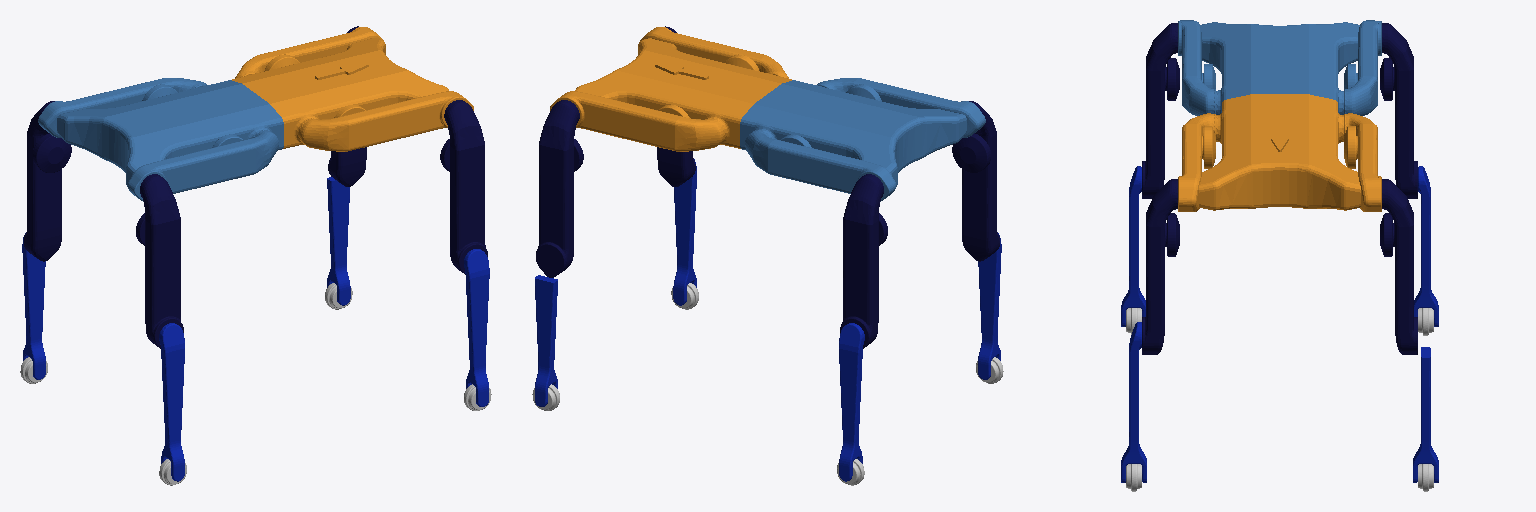
URDF robot description (solo):
<?xml version="1.0" ?>
<!-- =================================================================================== -->
<!-- |    This document was autogenerated by xacro from /usr/local/lib/python3.9/site-packages/robot_properties_solo/resources/xacro/solo8.urdf.xacro | -->
<!-- |    EDITING THIS FILE BY HAND IS NOT RECOMMENDED                                 | -->
<!-- =================================================================================== -->
<robot name="solo" xmlns:controller="http://playerstage.sourceforge.net/gazebo/xmlschema/#controller" xmlns:interface="http://playerstage.sourceforge.net/gazebo/xmlschema/#interface" xmlns:sensor="http://playerstage.sourceforge.net/gazebo/xmlschema/#sensor" xmlns:xacro="http://playerstage.sourceforge.net/gazebo/xmlschema/#interface">
  <!-- This file is based on: https://atlas.is.localnet/confluence/display/AMDW/Quadruped+URDF+Files -->
  <link name="torso_front">
    <!-- BASE LINK INERTIAL -->
    <inertial>
      <origin rpy="0 0 0" xyz="0 0 0"/>
      <mass value="0.71657546"/>
      <!-- The base is extremely symmetrical. -->
      <inertia ixx="0.0001" ixy="0.0" ixz="0.0" iyy="50" iyz="0.0" izz="50"/>
    </inertial>
    <!-- BASE LINK VISUAL -->
    <visual>
      <origin rpy="0 0 0" xyz="0 0 0"/>
      <geometry>
        <mesh filename="../meshes/solo_torso_front.dae"/>
      </geometry>
      <material name="ftorso_mat">
        <color rgba="0.9 0.6 0.2 1"/>
      </material>
    </visual>
    <!-- BASE LINK COLLISION -->
    <collision>
      <origin rpy="0 0 0" xyz="0.11 0 0"/>
      <geometry>
        <box size="0.2 0.18 0.06"/>
      </geometry>
    </collision>
    <!-- Bullet specific paramters -->
    <contact>
      <lateral_friction value="1.0"/>
      <restitution value="0.5"/>
    </contact>
  </link>
  <!-- SPIN:Between the torso -->
  <joint name="spine_joint" type="revolute">
    <parent link="torso_front"/>
    <child link="torso_back"/>
    <limit effort="1.154579" lower="-4" upper="4" velocity="25"/>
    <!-- joints rotates around the y-axis -->
    <axis xyz="1 0 0"/>
    <origin rpy="0 0 0" xyz="0 0 0"/>
    <!-- pybullet simulation parameters -->
    <dynamics damping="0.0" friction="0.0"/>
  </joint>
  <link name="torso_back">
    <!-- BASE LINK INERTIAL -->
    <inertial>
      <origin rpy="0 0 0" xyz="0 0 0"/>
      <mass value="0.71657546"/>
      <!-- The base is extremely symmetrical. -->
      <inertia ixx="0.0001" ixy="0.0" ixz="0.0" iyy="50" iyz="0.0" izz="50"/>
    </inertial>
    <!-- BASE LINK VISUAL -->
    <visual>
      <origin rpy="0 0 0" xyz="0 0 0"/>
      <geometry>
        <mesh filename="../meshes/solo_torso_back.dae"/>
      </geometry>
      <material name="btorso_mat">
        <color rgba="0.3 0.5 0.7 1"/>
      </material>
    </visual>
    <!-- BASE LINK COLLISION -->
    <collision>
      <origin rpy="0 0 0" xyz="-0.11 0 0"/>
      <geometry>
        <box size="0.2 0.18 0.06"/>
      </geometry>
    </collision>
    <!-- Bullet specific paramters -->
    <contact>
      <lateral_friction value="1.0"/>
      <restitution value="0.5"/>
    </contact>
  </link>
  <!-- END BASE LINK -->
  <!-- Joint between the base and the ${prefix} upper leg -->
  <joint name="FL_HFE" type="revolute">
    <parent link="torso_front"/>
    <child link="FL_UPPER_LEG"/>
    <limit effort="1.154579" lower="0" upper="1.5707963" velocity="15"/>
    <!-- joints rotates around the y-axis -->
    <axis xyz="0 1 0"/>
    <origin rpy="0 0 0" xyz="0.19 0.1046 0"/>
    <!-- pybullet simulation parameters -->
    <dynamics damping="0.0" friction="0.0"/>
  </joint>
  <link name="FL_UPPER_LEG">
    <!-- Left upper leg inertia -->
    <inertial>
      <origin rpy="0 0 0" xyz="0.00001377 0.01935853 -0.07870700"/>
      <mass value="0.14853845"/>
      <inertia ixx="0.00041107" ixy="0.0" ixz="0.0" iyy="0.00041193" iyz="0.00004671" izz="0.00003024"/>
    </inertial>
    <!-- UPPER LEG LINK VISUAL -->
    <visual>
      <origin rpy="0 0 0" xyz="0 0 0"/>
      <geometry>
        <mesh filename="../meshes/solo_upper_leg_left_side.dae"/>
      </geometry>
      <material name="fthigh_mat">
        <color rgba="0.1 0.1 0.3 1"/>
      </material>
    </visual>
    <!-- UPPER LEG LINK COLLISION -->
    <collision>
      <origin rpy="0 0 0" xyz="0 0 0"/>
      <geometry>
        <mesh filename="../meshes/solo_upper_leg_left_side.dae"/>
      </geometry>
    </collision>
    <!-- Bullet specific paramters -->
    <contact>
      <lateral_friction value="1.0"/>
      <restitution value="0.5"/>
    </contact>
  </link>
  <!-- END UPPER LEG LINK -->
  <!-- KFE: Joint between the upper leg and the lower leg -->
  <joint name="FL_KFE" type="revolute">
    <parent link="FL_UPPER_LEG"/>
    <child link="FL_LOWER_LEG"/>
    <limit effort="1.154579" lower="-3.14" upper="0" velocity="15"/>
    <!-- joints rotates around the y-axis -->
    <axis xyz="0 1 0"/>
    <origin rpy="0 0 0" xyz="0 0.037450000000000004 -0.16"/>
    <!-- pybullet simulation parameters -->
    <dynamics damping="0.0" friction="0.0"/>
  </joint>
  <link name="FL_LOWER_LEG">
    <!-- Left lower leg inertia -->
    <inertial>
      <origin rpy="0 0 0" xyz="0.0 0.00787644 -0.08928215"/>
      <mass value="0.03070001"/>
      <inertia ixx="0.00012024" ixy="0.0" ixz="0.0" iyy="0.00012029" iyz="0.00000305" izz="0.00000216"/>
    </inertial>
    <!-- LOWER LEG LINK VISUAL -->
    <visual>
      <origin rpy="0 0 0" xyz="0 0 0"/>
      <geometry>
        <mesh filename="../meshes/solo_lower_leg_left_cut.dae"/>
      </geometry>
      <material name="fshin_mat">
        <color rgba="0.1 0.2 0.7 0.4"/>
      </material>
    </visual>
    <!-- LOWER LEG LINK COLLISION -->
    <collision>
      <origin rpy="0 0 0" xyz="0 0 0"/>
      <geometry>
        <mesh filename="../meshes/solo_lower_leg_left_cut.dae"/>
      </geometry>
    </collision>
    <!-- Bullet specific paramters -->
    <contact>
      <lateral_friction value="1.0"/>
      <restitution value="0.5"/>
    </contact>
  </link>
  <!-- END LOWER LEG LINK -->
  <!-- KFE: Joint between the upper leg and the lower leg -->
  <joint name="FL_ANKLE" type="fixed">
    <parent link="FL_LOWER_LEG"/>
    <child link="FL_FOOT"/>
    <origin rpy="0 0 0" xyz="0 0.008 -0.16"/>
    <!-- pybullet simulation parameters -->
    <dynamics damping="0.0" friction="0.0"/>
  </joint>
  <link name="FL_FOOT">
    <!-- FOOT INERTIAL -->
    <!-- This link is symmetrical left or right -->
    <inertial>
      <origin rpy="0 0 0" xyz="0 0 0.00035767"/>
      <mass value="0.00693606"/>
      <inertia ixx="0.00000057" ixy="0.0" ixz="0.0" iyy="0.00000084" iyz="0.0" izz="0.00000053"/>
    </inertial>
    <!-- FOOT VISUAL -->
    <visual>
      <origin rpy="0 0 0" xyz="0 0 0"/>
      <geometry>
        <mesh filename="../meshes/solo_foot.dae"/>
      </geometry>
      <material name="grey">
        <color rgba="0.8 0.8 0.8 1.0"/>
      </material>
    </visual>
    <!-- FOOT COLLISION -->
    <collision>
      <origin rpy="0 0 0" xyz="0 0 0"/>
      <geometry>
        <mesh filename="../meshes/solo_foot.dae"/>
      </geometry>
    </collision>
    <!-- Bullet specific paramters -->
    <contact>
      <lateral_friction value="1.0"/>
      <restitution value="0.5"/>
    </contact>
  </link>
  <!-- END LOWER LEG LINK -->
  <!-- Joint between the base and the ${prefix} upper leg -->
  <joint name="FR_HFE" type="revolute">
    <parent link="torso_front"/>
    <child link="FR_UPPER_LEG"/>
    <limit effort="1.154579" lower="0" upper="1.5707963" velocity="15"/>
    <!-- joints rotates around the y-axis -->
    <axis xyz="0 1 0"/>
    <origin rpy="0 0 0" xyz="0.19 -0.1046 0"/>
    <!-- pybullet simulation parameters -->
    <dynamics damping="0.0" friction="0.0"/>
  </joint>
  <link name="FR_UPPER_LEG">
    <!-- Right upper leg inertia -->
    <inertial>
      <origin rpy="0 0 0" xyz="-0.00001377 -0.01935853 -0.07870700"/>
      <mass value="0.14853845"/>
      <inertia ixx="0.00041107" ixy="0.0" ixz="0.0" iyy="0.00041193" iyz="-0.00004671" izz="0.00003024"/>
    </inertial>
    <!-- UPPER LEG LINK VISUAL -->
    <visual>
      <origin rpy="0 0 0" xyz="0 0 0"/>
      <geometry>
        <mesh filename="../meshes/solo_upper_leg_right_side.dae"/>
      </geometry>
      <material name="fthigh_mat">
        <color rgba="0.1 0.1 0.3 1"/>
      </material>
    </visual>
    <!-- UPPER LEG LINK COLLISION -->
    <collision>
      <origin rpy="0 0 0" xyz="0 0 0"/>
      <geometry>
        <mesh filename="../meshes/solo_upper_leg_right_side.dae"/>
      </geometry>
    </collision>
    <!-- Bullet specific paramters -->
    <contact>
      <lateral_friction value="1.0"/>
      <restitution value="0.5"/>
    </contact>
  </link>
  <!-- END UPPER LEG LINK -->
  <!-- KFE: Joint between the upper leg and the lower leg -->
  <joint name="FR_KFE" type="revolute">
    <parent link="FR_UPPER_LEG"/>
    <child link="FR_LOWER_LEG"/>
    <limit effort="1.154579" lower="-3.14" upper="0" velocity="15"/>
    <!-- joints rotates around the y-axis -->
    <axis xyz="0 1 0"/>
    <origin rpy="0 0 0" xyz="0 -0.037450000000000004 -0.16"/>
    <!-- pybullet simulation parameters -->
    <dynamics damping="0.0" friction="0.0"/>
  </joint>
  <link name="FR_LOWER_LEG">
    <!-- Right lower leg inertia -->
    <inertial>
      <origin rpy="0 0 0" xyz="0.0 0.00787644 -0.08928215"/>
      <mass value="0.03070001"/>
      <inertia ixx="0.00012024" ixy="0.0" ixz="0.0" iyy="0.00012029" iyz="-0.00000305" izz="0.00000216"/>
    </inertial>
    <!-- LOWER LEG LINK VISUAL -->
    <visual>
      <origin rpy="0 0 0" xyz="0 0 0"/>
      <geometry>
        <mesh filename="../meshes/solo_lower_leg_right_side.dae"/>
      </geometry>
      <material name="fshin_mat">
        <color rgba="0.1 0.2 0.7 0.4"/>
      </material>
    </visual>
    <!-- LOWER LEG LINK COLLISION -->
    <collision>
      <origin rpy="0 0 0" xyz="0 0 0"/>
      <geometry>
        <mesh filename="../meshes/solo_lower_leg_right_side.dae"/>
      </geometry>
    </collision>
    <!-- Bullet specific paramters -->
    <contact>
      <lateral_friction value="1.0"/>
      <restitution value="0.5"/>
    </contact>
  </link>
  <!-- END LOWER LEG LINK -->
  <!-- KFE: Joint between the upper leg and the lower leg -->
  <joint name="FR_ANKLE" type="fixed">
    <parent link="FR_LOWER_LEG"/>
    <child link="FR_FOOT"/>
    <origin rpy="0 0 0" xyz="0 -0.008 -0.16"/>
    <!-- pybullet simulation parameters -->
    <dynamics damping="0.0" friction="0.0"/>
  </joint>
  <link name="FR_FOOT">
    <!-- FOOT INERTIAL -->
    <!-- This link is symmetrical left or right -->
    <inertial>
      <origin rpy="0 0 0" xyz="0 0 0.00035767"/>
      <mass value="0.00693606"/>
      <inertia ixx="0.00000057" ixy="0.0" ixz="0.0" iyy="0.00000084" iyz="0.0" izz="0.00000053"/>
    </inertial>
    <!-- FOOT VISUAL -->
    <visual>
      <origin rpy="0 0 0" xyz="0 0 0"/>
      <geometry>
        <mesh filename="../meshes/solo_foot.dae"/>
      </geometry>
      <material name="grey">
        <color rgba="0.8 0.8 0.8 1.0"/>
      </material>
    </visual>
    <!-- FOOT COLLISION -->
    <collision>
      <origin rpy="0 0 0" xyz="0 0 0"/>
      <geometry>
        <mesh filename="../meshes/solo_foot.dae"/>
      </geometry>
    </collision>
    <!-- Bullet specific paramters -->
    <contact>
      <lateral_friction value="1.0"/>
      <restitution value="0.5"/>
    </contact>
  </link>
  <!-- END LOWER LEG LINK -->
  <!-- Joint between the base and the ${prefix} upper leg -->
  <joint name="HL_HFE" type="revolute">
    <parent link="torso_back"/>
    <child link="HL_UPPER_LEG"/>
    <limit effort="1.154579" lower="-1.5707963" upper="0" velocity="15"/>
    <!-- joints rotates around the y-axis -->
    <axis xyz="0 1 0"/>
    <origin rpy="0 0 0" xyz="-0.19 0.1046 0"/>
    <!-- pybullet simulation parameters -->
    <dynamics damping="0.0" friction="0.0"/>
  </joint>
  <link name="HL_UPPER_LEG">
    <!-- Left upper leg inertia -->
    <inertial>
      <origin rpy="0 0 0" xyz="0.00001377 0.01935853 -0.07870700"/>
      <mass value="0.14853845"/>
      <inertia ixx="0.00041107" ixy="0.0" ixz="0.0" iyy="0.00041193" iyz="0.00004671" izz="0.00003024"/>
    </inertial>
    <!-- UPPER LEG LINK VISUAL -->
    <visual>
      <origin rpy="0 0 0" xyz="0 0 0"/>
      <geometry>
        <mesh filename="../meshes/solo_upper_leg_left_side.dae"/>
      </geometry>
      <material name="bthigh_mat">
        <color rgba="0.1 0.1 0.3 1"/>
      </material>
    </visual>
    <!-- UPPER LEG LINK COLLISION -->
    <collision>
      <origin rpy="0 0 0" xyz="0 0 0"/>
      <geometry>
        <mesh filename="../meshes/solo_upper_leg_left_side.dae"/>
      </geometry>
    </collision>
    <!-- Bullet specific paramters -->
    <contact>
      <lateral_friction value="1.0"/>
      <restitution value="0.5"/>
    </contact>
  </link>
  <!-- END UPPER LEG LINK -->
  <!-- KFE: Joint between the upper leg and the lower leg -->
  <joint name="HL_KFE" type="revolute">
    <parent link="HL_UPPER_LEG"/>
    <child link="HL_LOWER_LEG"/>
    <limit effort="1.154579" lower="0" upper="3.14" velocity="15"/>
    <!-- joints rotates around the y-axis -->
    <axis xyz="0 1 0"/>
    <origin rpy="0 0 0" xyz="0 0.037450000000000004 -0.16"/>
    <!-- pybullet simulation parameters -->
    <dynamics damping="0.0" friction="0.0"/>
  </joint>
  <link name="HL_LOWER_LEG">
    <!-- Left lower leg inertia -->
    <inertial>
      <origin rpy="0 0 0" xyz="0.0 0.00787644 -0.08928215"/>
      <mass value="0.03070001"/>
      <inertia ixx="0.00012024" ixy="0.0" ixz="0.0" iyy="0.00012029" iyz="0.00000305" izz="0.00000216"/>
    </inertial>
    <!-- LOWER LEG LINK VISUAL -->
    <visual>
      <origin rpy="0 0 0" xyz="0 0 0"/>
      <geometry>
        <mesh filename="../meshes/solo_lower_leg_left_side.dae"/>
      </geometry>
      <material name="bshin_mat">
        <color rgba="0.1 0.2 0.7 0.4"/>
      </material>
    </visual>
    <!-- LOWER LEG LINK COLLISION -->
    <collision>
      <origin rpy="0 0 0" xyz="0 0 0"/>
      <geometry>
        <mesh filename="../meshes/solo_lower_leg_left_side.dae"/>
      </geometry>
    </collision>
    <!-- Bullet specific paramters -->
    <contact>
      <lateral_friction value="1.0"/>
      <restitution value="0.5"/>
    </contact>
  </link>
  <!-- END LOWER LEG LINK -->
  <!-- KFE: Joint between the upper leg and the lower leg -->
  <joint name="HL_ANKLE" type="fixed">
    <parent link="HL_LOWER_LEG"/>
    <child link="HL_FOOT"/>
    <origin rpy="0 0 0" xyz="0 0.008 -0.16"/>
    <!-- pybullet simulation parameters -->
    <dynamics damping="0.0" friction="0.0"/>
  </joint>
  <link name="HL_FOOT">
    <!-- FOOT INERTIAL -->
    <!-- This link is symmetrical left or right -->
    <inertial>
      <origin rpy="0 0 0" xyz="0 0 0.00035767"/>
      <mass value="0.00693606"/>
      <inertia ixx="0.00000057" ixy="0.0" ixz="0.0" iyy="0.00000084" iyz="0.0" izz="0.00000053"/>
    </inertial>
    <!-- FOOT VISUAL -->
    <visual>
      <origin rpy="0 0 0" xyz="0 0 0"/>
      <geometry>
        <mesh filename="../meshes/solo_foot.dae"/>
      </geometry>
      <material name="grey">
        <color rgba="0.8 0.8 0.8 1.0"/>
      </material>
    </visual>
    <!-- FOOT COLLISION -->
    <collision>
      <origin rpy="0 0 0" xyz="0 0 0"/>
      <geometry>
        <mesh filename="../meshes/solo_foot.dae"/>
      </geometry>
    </collision>
    <!-- Bullet specific paramters -->
    <contact>
      <lateral_friction value="1.0"/>
      <restitution value="0.5"/>
    </contact>
  </link>
  <!-- END LOWER LEG LINK -->
  <!-- Joint between the base and the ${prefix} upper leg -->
  <joint name="HR_HFE" type="revolute">
    <parent link="torso_back"/>
    <child link="HR_UPPER_LEG"/>
    <!-- joints rotates around the y-axis -->
    <limit effort="1.154579" lower="-1.5707963" upper="0" velocity="15"/>
    <axis xyz="0 1 0"/>
    <origin rpy="0 0 0" xyz="-0.19 -0.1046 0"/>
    <!-- pybullet simulation parameters -->
    <dynamics damping="0.0" friction="0.0"/>
  </joint>
  <link name="HR_UPPER_LEG">
    <!-- Right upper leg inertia -->
    <inertial>
      <origin rpy="0 0 0" xyz="-0.00001377 -0.01935853 -0.07870700"/>
      <mass value="0.14853845"/>
      <inertia ixx="0.00041107" ixy="0.0" ixz="0.0" iyy="0.00041193" iyz="-0.00004671" izz="0.00003024"/>
    </inertial>
    <!-- UPPER LEG LINK VISUAL -->
    <visual>
      <origin rpy="0 0 0" xyz="0 0 0"/>
      <geometry>
        <mesh filename="../meshes/solo_upper_leg_right_side.dae"/>
      </geometry>
      <material name="bthigh_mat">
        <color rgba="0.1 0.1 0.3 1"/>
      </material>
    </visual>
    <!-- UPPER LEG LINK COLLISION -->
    <collision>
      <origin rpy="0 0 0" xyz="0 0 0"/>
      <geometry>
        <mesh filename="../meshes/solo_upper_leg_right_side.dae"/>
      </geometry>
    </collision>
    <!-- Bullet specific paramters -->
    <contact>
      <lateral_friction value="1.0"/>
      <restitution value="0.5"/>
    </contact>
  </link>
  <!-- END UPPER LEG LINK -->
  <!-- KFE: Joint between the upper leg and the lower leg -->
  <joint name="HR_KFE" type="revolute">
    <parent link="HR_UPPER_LEG"/>
    <child link="HR_LOWER_LEG"/>
    <limit effort="1.154579" lower="0" upper="3.14" velocity="15"/>
    <!-- joints rotates around the y-axis -->
    <axis xyz="0 1 0"/>
    <origin rpy="0 0 0" xyz="0 -0.037450000000000004 -0.16"/>
    <!-- pybullet simulation parameters -->
    <dynamics damping="0.0" friction="0.0"/>
  </joint>
  <link name="HR_LOWER_LEG">
    <!-- Right lower leg inertia -->
    <inertial>
      <origin rpy="0 0 0" xyz="0.0 0.00787644 -0.08928215"/>
      <mass value="0.03070001"/>
      <inertia ixx="0.00012024" ixy="0.0" ixz="0.0" iyy="0.00012029" iyz="-0.00000305" izz="0.00000216"/>
    </inertial>
    <!-- LOWER LEG LINK VISUAL -->
    <visual>
      <origin rpy="0 0 0" xyz="0 0 0"/>
      <geometry>
        <mesh filename="../meshes/solo_lower_leg_right_side.dae"/>
      </geometry>
      <material name="bshin_mat">
        <color rgba="0.1 0.2 0.7 0.4"/>
      </material>
    </visual>
    <!-- LOWER LEG LINK COLLISION -->
    <collision>
      <origin rpy="0 0 0" xyz="0 0 0"/>
      <geometry>
        <mesh filename="../meshes/solo_lower_leg_right_side.dae"/>
      </geometry>
    </collision>
    <!-- Bullet specific paramters -->
    <contact>
      <lateral_friction value="1.0"/>
      <restitution value="0.5"/>
    </contact>
  </link>
  <!-- END LOWER LEG LINK -->
  <!-- KFE: Joint between the upper leg and the lower leg -->
  <joint name="HR_ANKLE" type="fixed">
    <parent link="HR_LOWER_LEG"/>
    <child link="HR_FOOT"/>
    <origin rpy="0 0 0" xyz="0 -0.008 -0.16"/>
    <!-- pybullet simulation parameters -->
    <dynamics damping="0.0" friction="0.0"/>
  </joint>
  <link name="HR_FOOT">
    <!-- FOOT INERTIAL -->
    <!-- This link is symmetrical left or right -->
    <inertial>
      <origin rpy="0 0 0" xyz="0 0 0.00035767"/>
      <mass value="0.00693606"/>
      <inertia ixx="0.00000057" ixy="0.0" ixz="0.0" iyy="0.00000084" iyz="0.0" izz="0.00000053"/>
    </inertial>
    <!-- FOOT VISUAL -->
    <visual>
      <origin rpy="0 0 0" xyz="0 0 0"/>
      <geometry>
        <mesh filename="../meshes/solo_foot.dae"/>
      </geometry>
      <material name="grey">
        <color rgba="0.8 0.8 0.8 1.0"/>
      </material>
    </visual>
    <!-- FOOT COLLISION -->
    <collision>
      <origin rpy="0 0 0" xyz="0 0 0"/>
      <geometry>
        <mesh filename="../meshes/solo_foot.dae"/>
      </geometry>
    </collision>
    <!-- Bullet specific paramters -->
    <contact>
      <lateral_friction value="1.0"/>
      <restitution value="0.5"/>
    </contact>
  </link>
  <!-- END LOWER LEG LINK -->
</robot>

--- Facts derived from the render (not from the file) ---
3 views of the same robot in one strip: view 1: azimuth 30°, elevation 25°; view 2: azimuth 150°, elevation 25°; view 3: azimuth 270°, elevation 25° (orthographic).
Model solo with 14 links and 13 joints (9 revolute, 4 fixed), rooted at torso_front, posed every joint at zero.
Links seen in each view (by area): view 1: torso_back, torso_front, HR_UPPER_LEG, FR_UPPER_LEG, HL_UPPER_LEG, HR_LOWER_LEG, FR_LOWER_LEG, HL_LOWER_LEG, FL_LOWER_LEG, FL_UPPER_LEG; view 2: torso_back, torso_front, FL_UPPER_LEG, HL_UPPER_LEG, HR_UPPER_LEG, HL_LOWER_LEG, FL_LOWER_LEG, FR_LOWER_LEG, HR_LOWER_LEG, FR_UPPER_LEG; view 3: torso_front, torso_back, FL_UPPER_LEG, FR_UPPER_LEG, HL_UPPER_LEG, HR_UPPER_LEG, FR_LOWER_LEG, HL_LOWER_LEG, HR_LOWER_LEG, FL_LOWER_LEG.
Link boxes in pixels (bbox=[...]): torso_back: bbox=[38, 78, 283, 201]; torso_front: bbox=[232, 27, 473, 151]; HR_UPPER_LEG: bbox=[136, 174, 183, 348]; FR_UPPER_LEG: bbox=[440, 100, 487, 274]; HL_UPPER_LEG: bbox=[24, 101, 71, 261]; HR_LOWER_LEG: bbox=[159, 323, 184, 481]; FR_LOWER_LEG: bbox=[464, 249, 489, 406]; HL_LOWER_LEG: bbox=[22, 233, 45, 379]; FL_LOWER_LEG: bbox=[327, 177, 350, 305]; FL_UPPER_LEG: bbox=[328, 26, 366, 186]; torso_back: bbox=[740, 78, 985, 201]; torso_front: bbox=[550, 27, 791, 151]; FL_UPPER_LEG: bbox=[536, 100, 583, 277]; HL_UPPER_LEG: bbox=[840, 174, 887, 348]; HR_UPPER_LEG: bbox=[952, 101, 999, 261]; HL_LOWER_LEG: bbox=[839, 323, 864, 481]; FL_LOWER_LEG: bbox=[535, 275, 557, 406]; FR_LOWER_LEG: bbox=[673, 159, 696, 305]; HR_LOWER_LEG: bbox=[978, 233, 1001, 379]; FR_UPPER_LEG: bbox=[657, 26, 695, 186]; torso_front: bbox=[1178, 94, 1381, 211]; torso_back: bbox=[1178, 20, 1381, 115]; FL_UPPER_LEG: bbox=[1380, 179, 1417, 354]; FR_UPPER_LEG: bbox=[1142, 179, 1179, 354]; HL_UPPER_LEG: bbox=[1380, 23, 1417, 198]; HR_UPPER_LEG: bbox=[1142, 23, 1179, 198]; FR_LOWER_LEG: bbox=[1121, 322, 1146, 482]; HL_LOWER_LEG: bbox=[1414, 166, 1438, 326]; HR_LOWER_LEG: bbox=[1121, 166, 1145, 326]; FL_LOWER_LEG: bbox=[1413, 347, 1438, 482].
Bounding box of the posed robot: 0.4244 × 0.327 × 0.364 m (x, y, z).
14 mesh visuals loaded from 8 distinct referenced files (8 Collada DAE).
